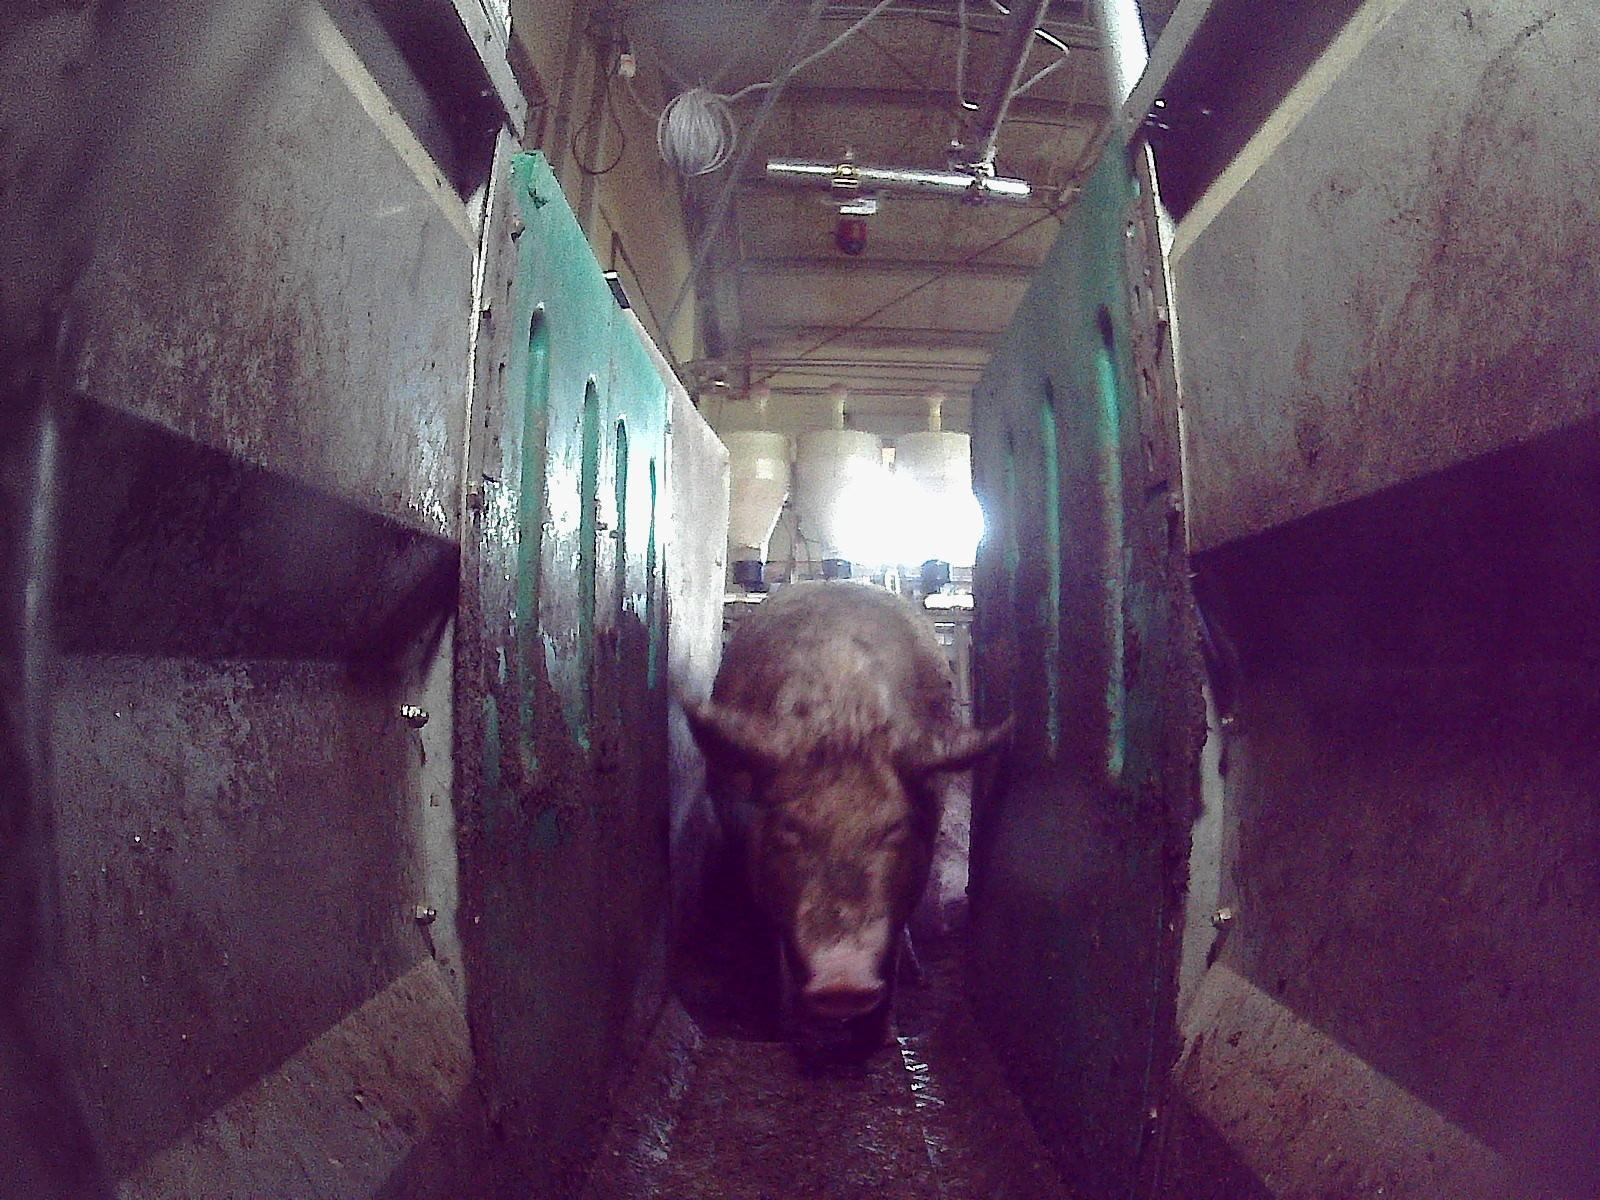Face: (725, 717, 932, 1017)
